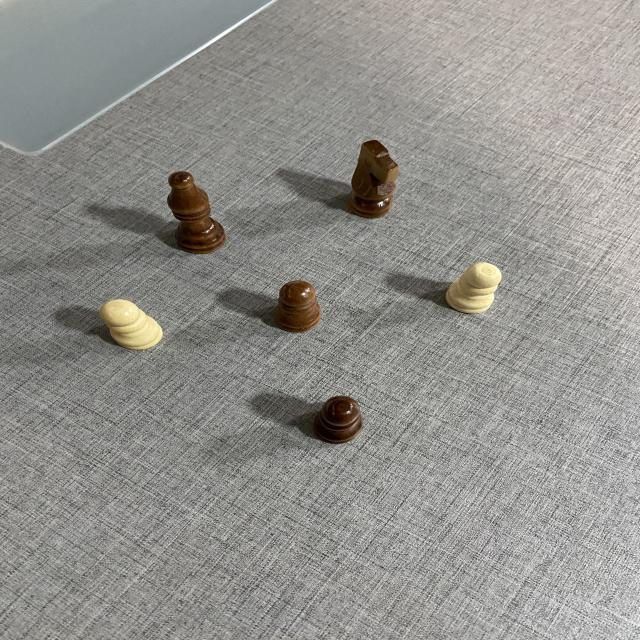Black-Bishop: (164, 170, 227, 254)
Black-Knight: (348, 139, 402, 218)
Black-Pawn: (271, 280, 325, 332), (314, 395, 363, 443)
White-Pawn: (99, 299, 174, 351), (446, 262, 503, 314)
